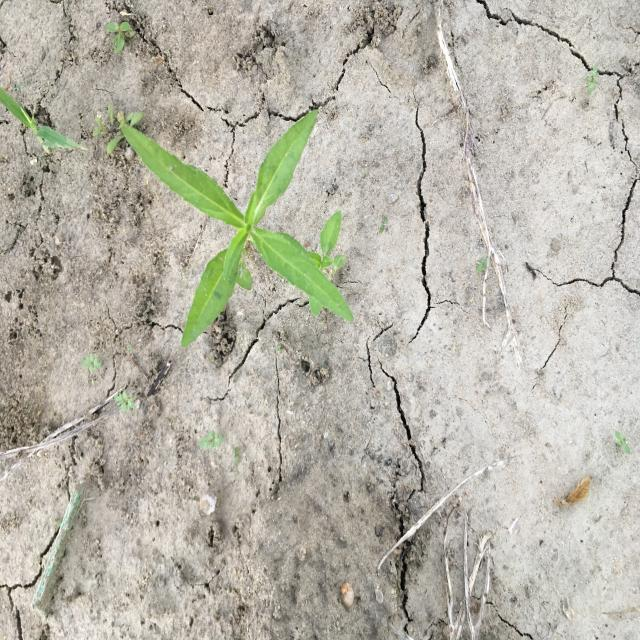Carpetweed: (88, 104, 144, 159)
Eclipta: (119, 108, 356, 349)
